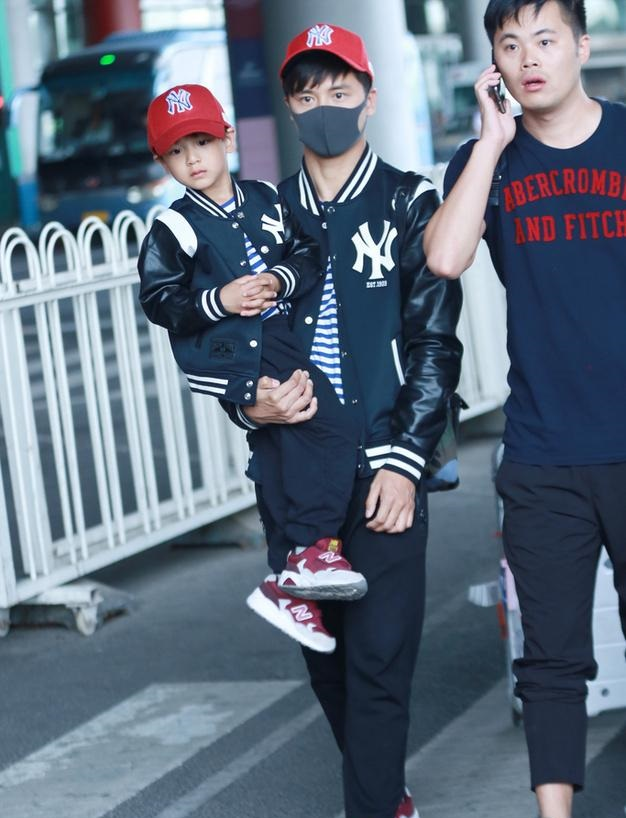face: (497, 1, 575, 109), (169, 118, 223, 188)
face_mask: (292, 57, 363, 153)
